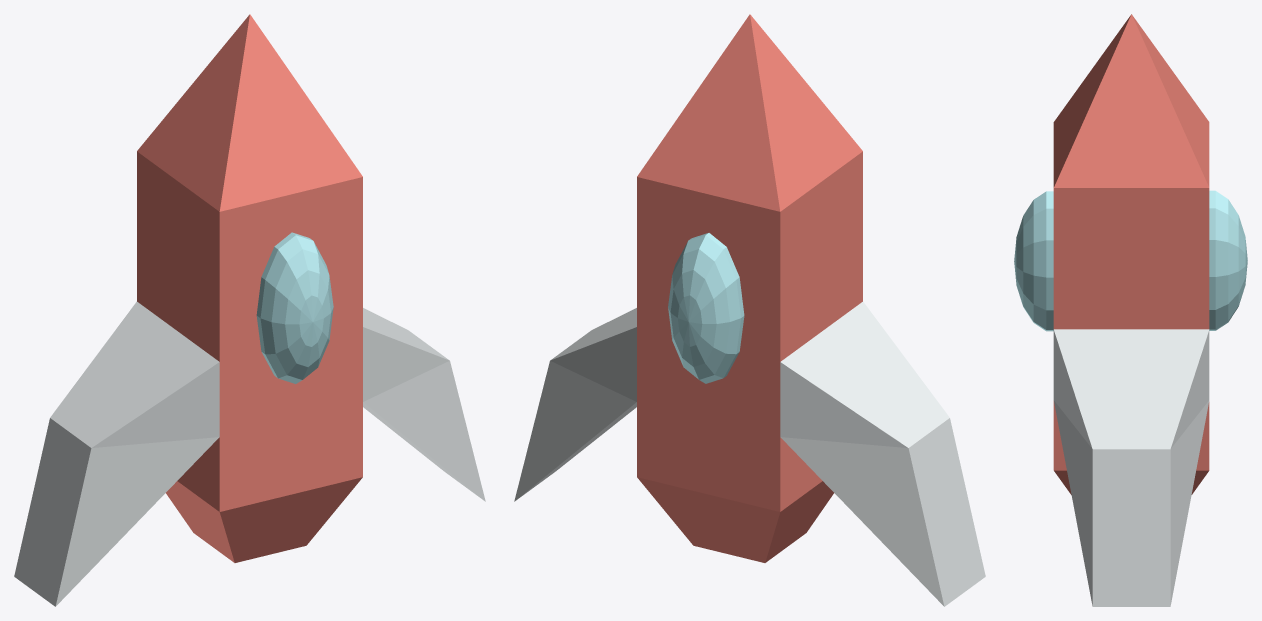
Rendered from rocket.glb.
3 views of the same model, side by side, from view 1: azimuth 30°, elevation 25°; view 2: azimuth 150°, elevation 25°; view 3: azimuth 270°, elevation 25° (orthographic). The views are drawn at different scales.
Visible parts, largest first — view 1: group1118155711, group1509339323, group2079574275, group1737890220, group386479265, group219771438; view 2: group1118155711, group1509339323, group2079574275, group1737890220, group254188377, group219771438; view 3: group1737890220, group1118155711, group2079574275, group386479265, group254188377, group219771438.
Boxes of the visible parts, <box> form: group1118155711: <box>137,151,362,511</box>; group1509339323: <box>14,301,219,606</box>; group2079574275: <box>137,14,362,211</box>; group1737890220: <box>363,308,485,501</box>; group386479265: <box>256,232,333,383</box>; group219771438: <box>166,477,362,562</box>; group1118155711: <box>637,151,862,511</box>; group1509339323: <box>780,301,985,606</box>; group2079574275: <box>637,14,862,211</box>; group1737890220: <box>514,308,636,501</box>; group254188377: <box>668,233,744,383</box>; group219771438: <box>637,477,833,562</box>; group1737890220: <box>1053,329,1209,606</box>; group1118155711: <box>1053,188,1209,470</box>; group2079574275: <box>1053,14,1209,187</box>; group386479265: <box>1014,191,1053,331</box>; group254188377: <box>1209,190,1247,330</box>; group219771438: <box>1054,470,1208,494</box>.
Size of the model in its own units: 0.12 by 0.14 by 0.06.
